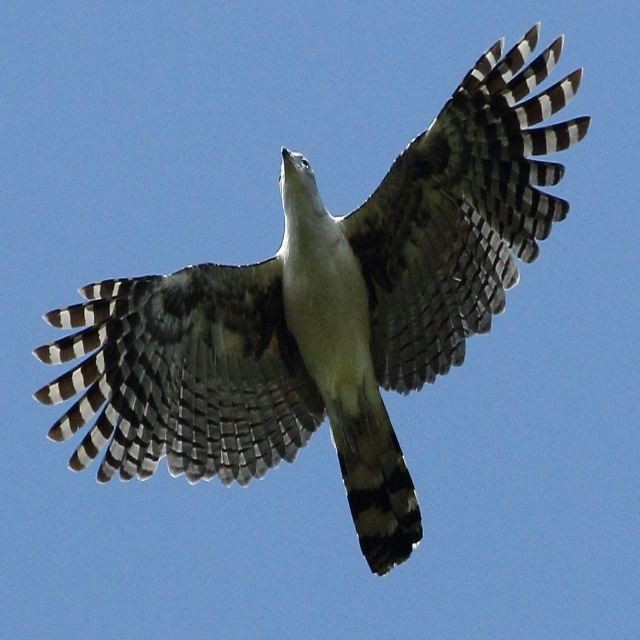Eagle: (29, 15, 598, 582)
